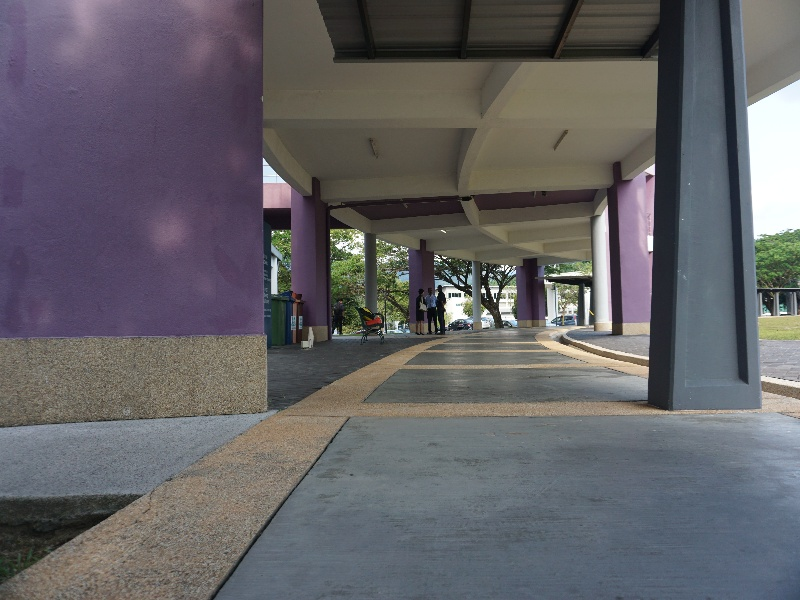Block D Pillar 1: (1, 6, 798, 476)
pillar: (1, 4, 284, 432), (648, 5, 762, 418), (286, 173, 339, 344), (610, 144, 651, 346), (518, 254, 552, 327), (359, 226, 381, 332), (464, 259, 488, 328)
